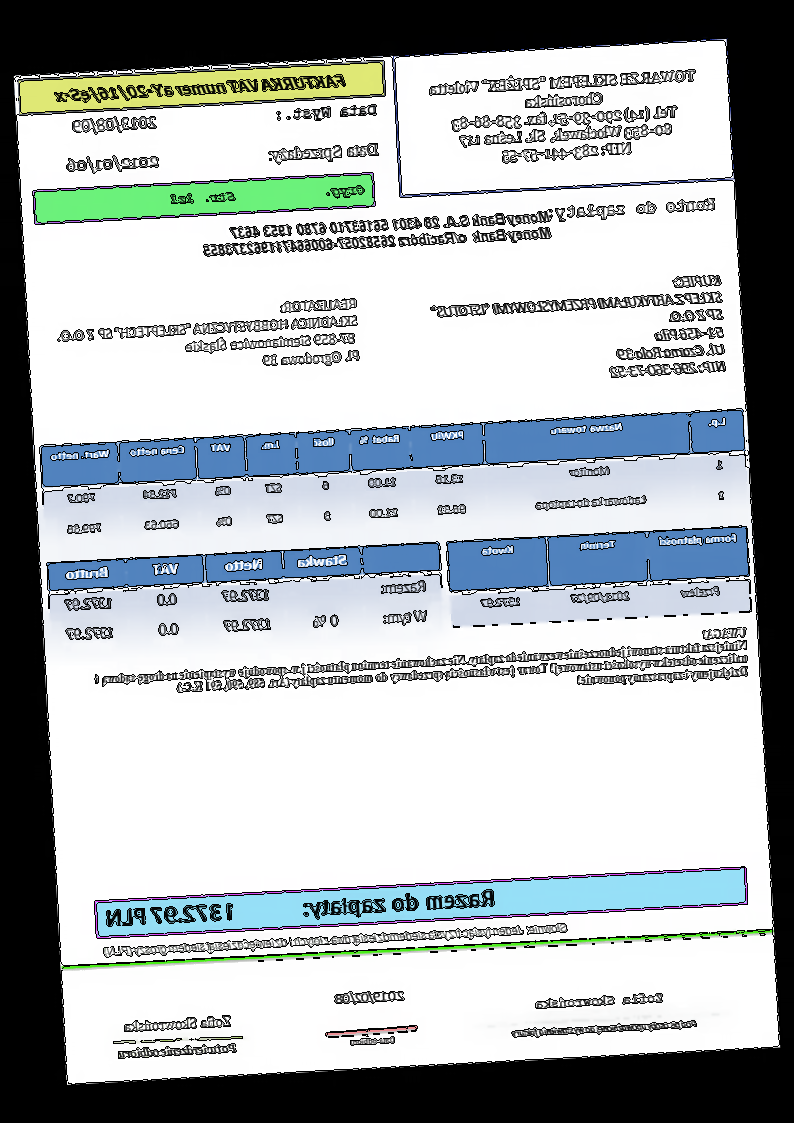Table: (38, 406, 750, 551), (45, 540, 446, 656), (445, 524, 753, 630)
TextBox: (88, 621, 753, 715), (426, 271, 730, 393), (424, 63, 707, 173), (53, 293, 365, 382), (104, 880, 500, 934), (102, 918, 572, 960), (199, 208, 556, 259), (47, 67, 349, 106), (166, 177, 368, 209), (547, 194, 720, 224), (508, 1017, 700, 1039), (267, 138, 384, 165), (532, 989, 666, 1012), (273, 98, 382, 125), (117, 1011, 234, 1035), (64, 149, 164, 176), (68, 109, 160, 138), (115, 1042, 241, 1061), (331, 985, 408, 1007), (347, 1031, 399, 1051)
